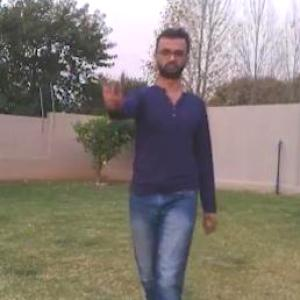takeoff-hand: (96, 64, 128, 110)
